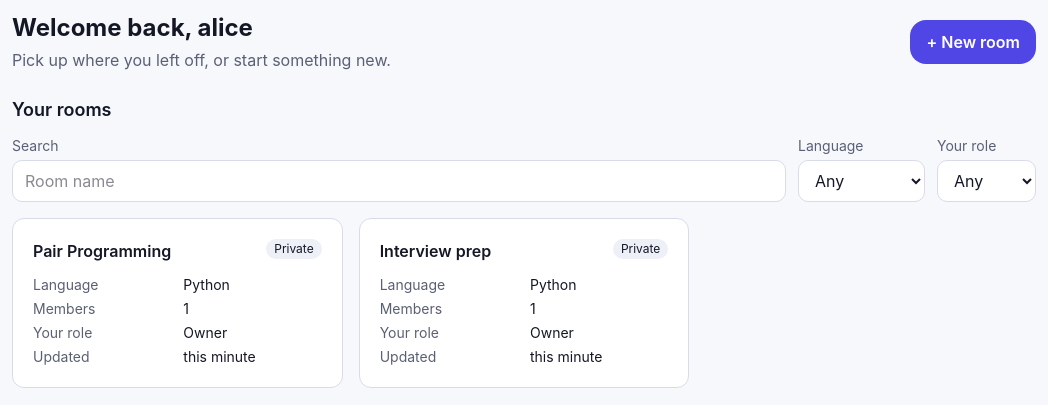
it: Dashboard › searches once typing pauses, and keeps the search in the URL
Type "pair" into the search field labelled "Search". click: coordinates (399, 181)
box: [12,160,786,202]
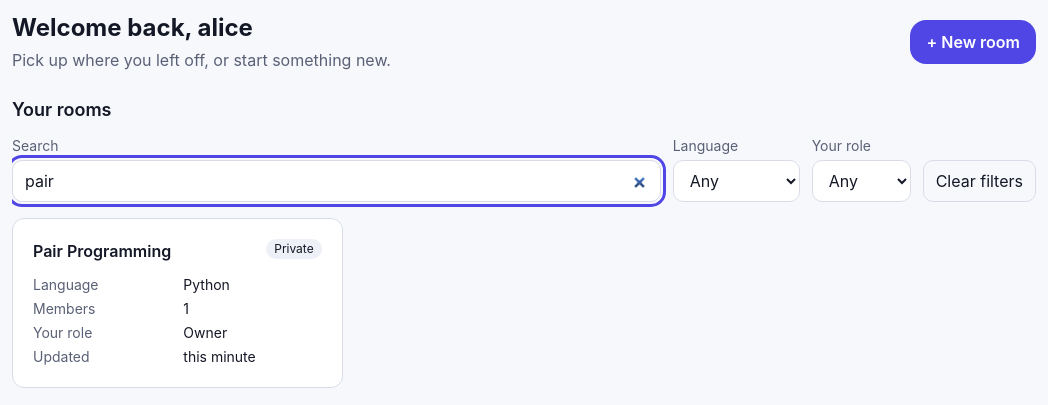
Now the link "Interview prep" is gone
